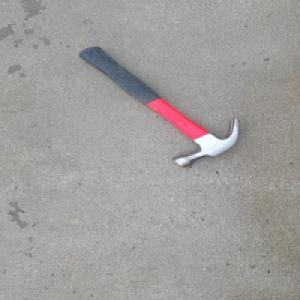Hammer: (74, 42, 241, 169)
